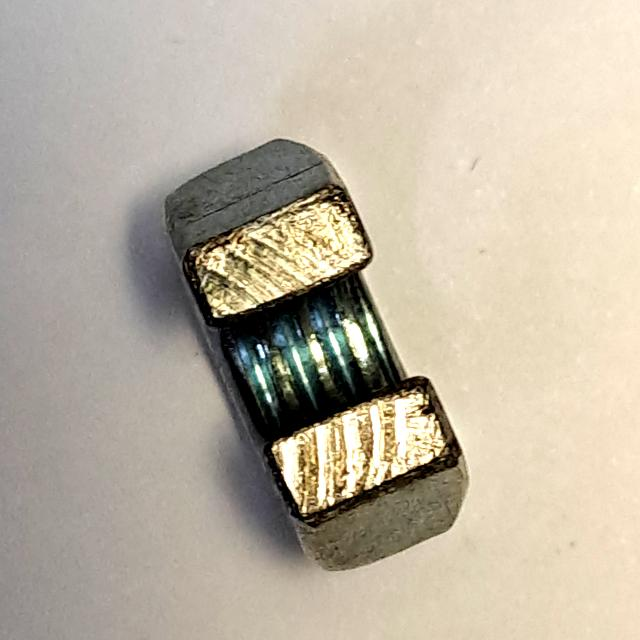Side-Fracture: (151, 124, 480, 586)
